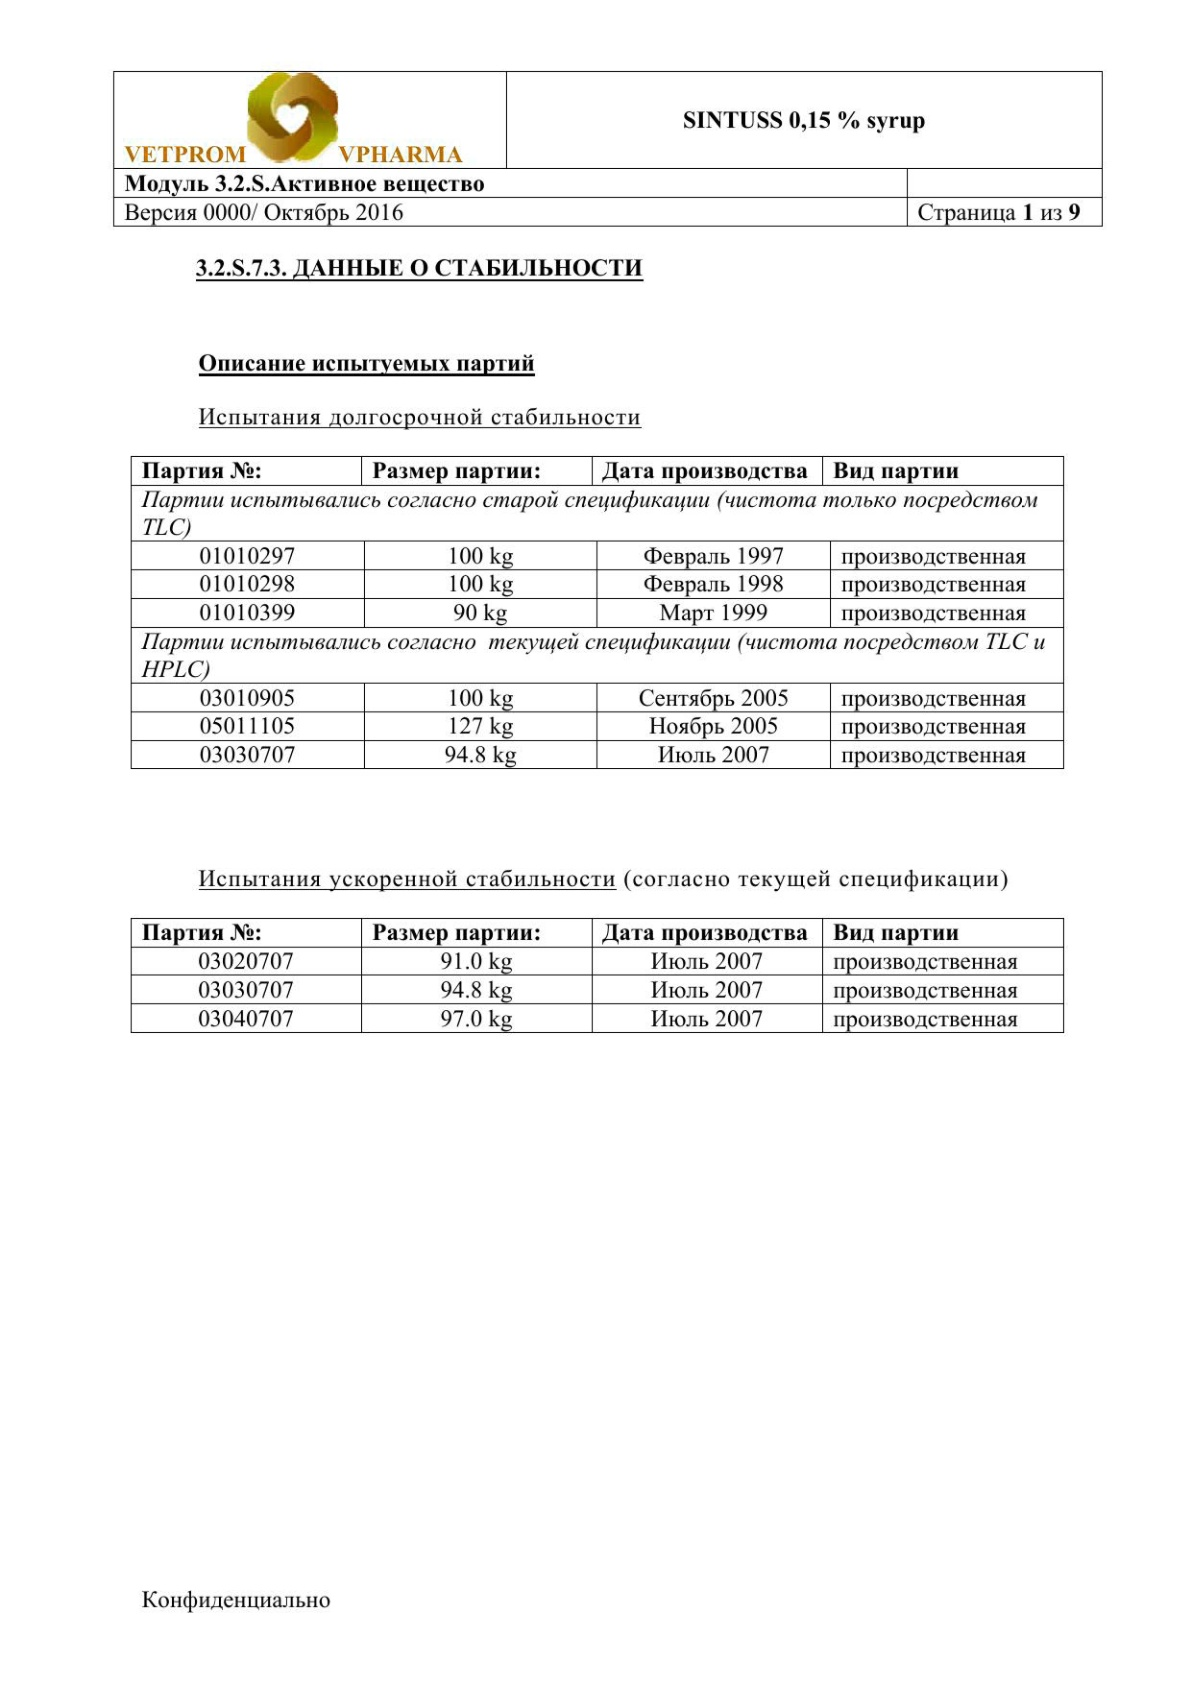full_lined: (128, 916, 1064, 1033)
merged_cells: (129, 455, 1066, 769), (112, 68, 1103, 228)
